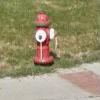Hydrant: (28, 7, 57, 72)
